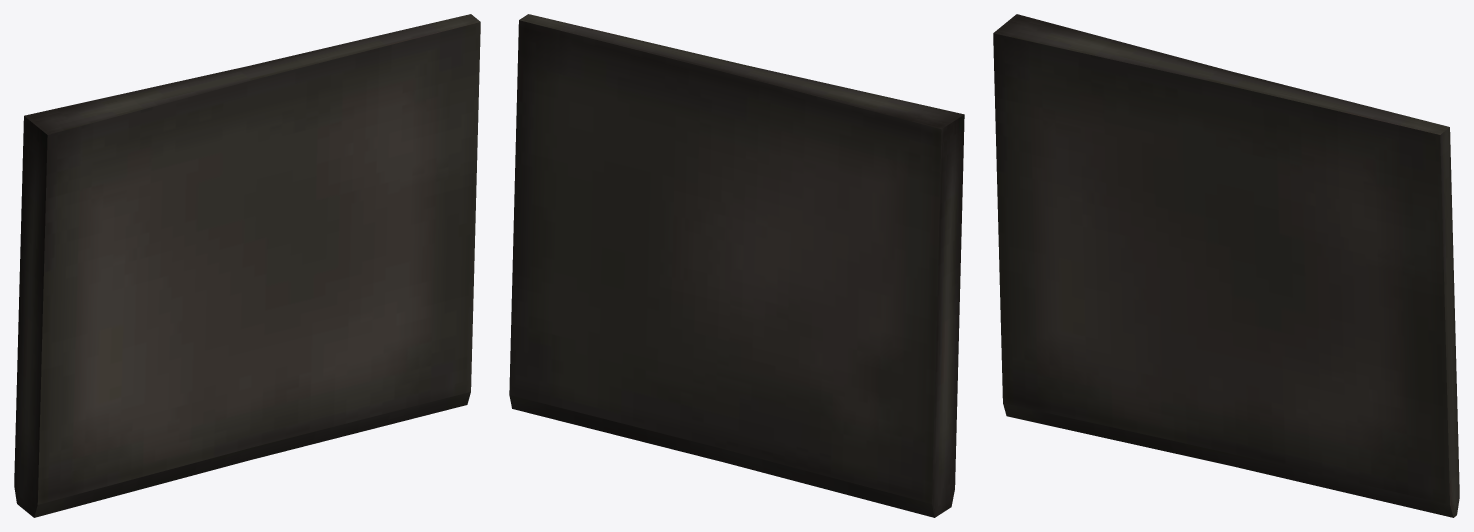
The model's file is Files04.FBX.
3 renders of one model, left to right at view 1: azimuth 30°, elevation 25°; view 2: azimuth 150°, elevation 25°; view 3: azimuth 330°, elevation 25°, orthographic. The views are drawn at different scales.
Visible parts, largest first — view 1: Box105; view 2: Box105; view 3: Box105.
Boxes of the visible parts, <box> form: Box105: <box>14,14,480,517</box>; Box105: <box>509,14,964,517</box>; Box105: <box>993,14,1459,517</box>.
Size of the model in its own units: 112 by 96.34 by 14.77.
1 material, 1 textured.
